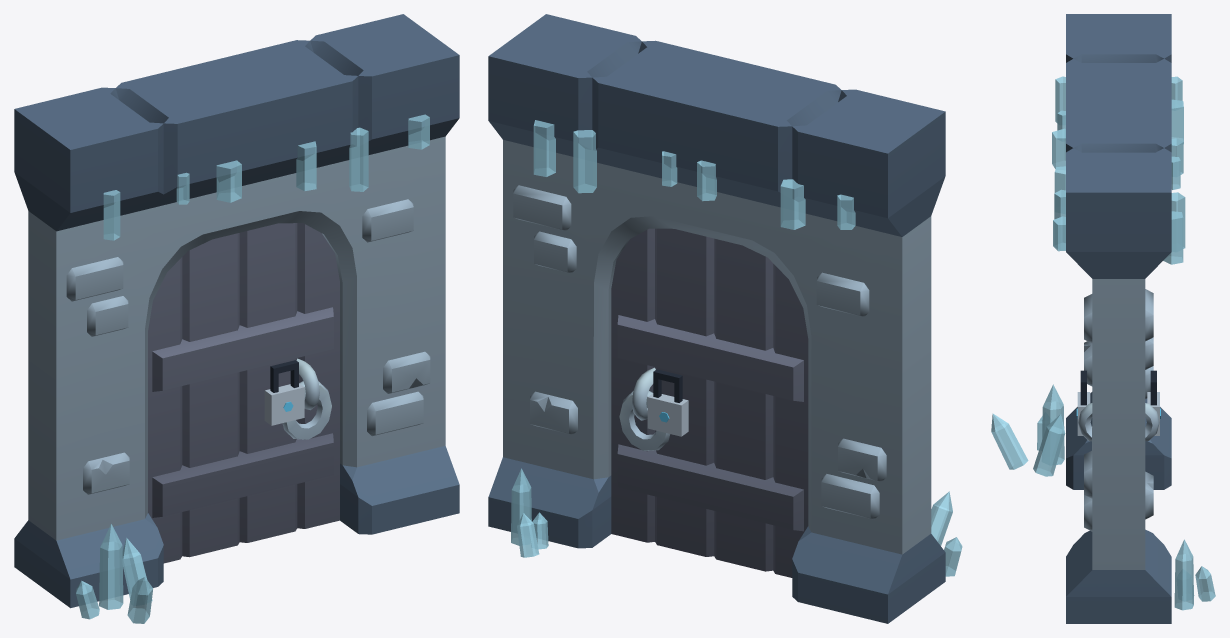
File: door_locked.fbx
3 views of the same model, side by side, from view 1: azimuth 30°, elevation 25°; view 2: azimuth 150°, elevation 25°; view 3: azimuth 270°, elevation 25° (orthographic). The views are drawn at different scales.
Parts seen in each view (by area): view 1: door_locked, Door, Lock; view 2: door_locked, Door, Lock; view 3: door_locked, Lock, Door.
Part boxes in pixels (x1=…): door_locked: x1=14, y1=14, x2=459, y2=623; Door: x1=148, y1=223, x2=339, y2=563; Lock: x1=264, y1=360, x2=304, y2=425; door_locked: x1=488, y1=14, x2=962, y2=623; Door: x1=611, y1=228, x2=808, y2=577; Lock: x1=647, y1=369, x2=688, y2=436; door_locked: x1=991, y1=14, x2=1215, y2=623; Lock: x1=1076, y1=370, x2=1160, y2=435; Door: x1=1078, y1=403, x2=1159, y2=450.
Bounding box in the file's own units: 4.05 × 4.54 × 2.12.
